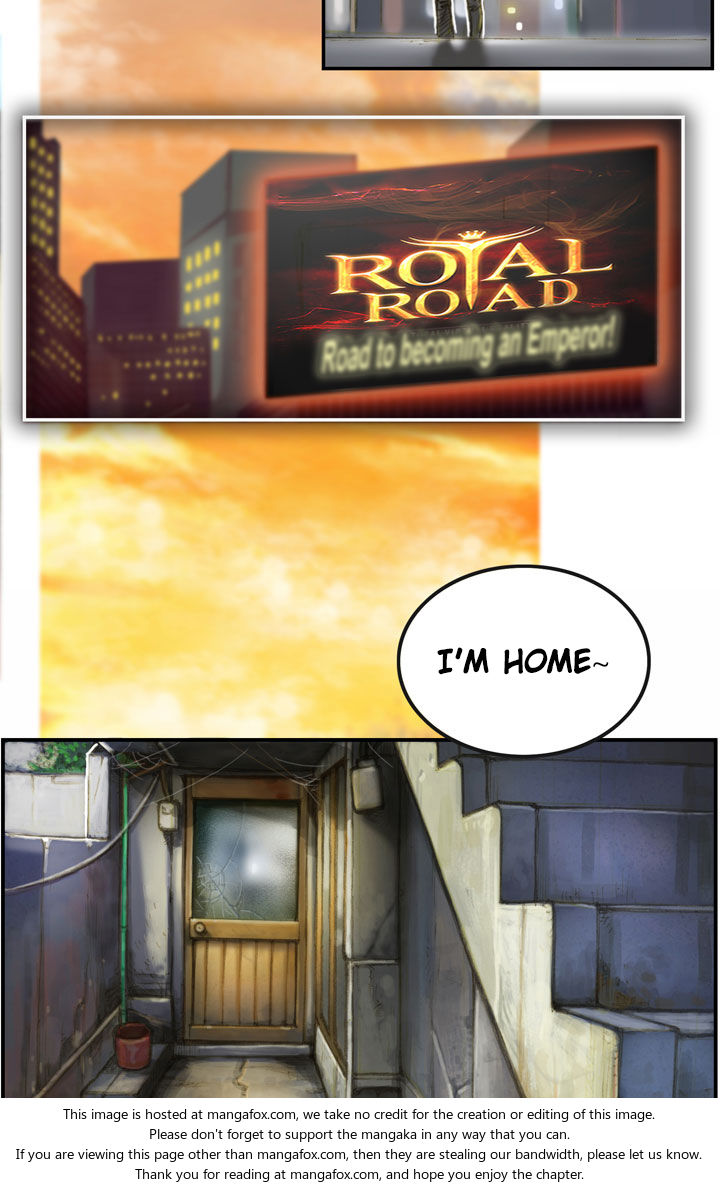bubble: (400, 564, 650, 757)
